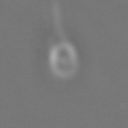normal: (48, 1, 72, 42)
